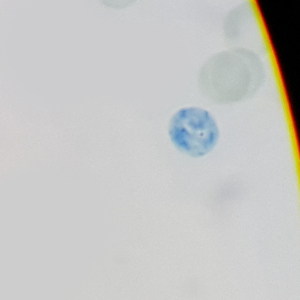aggregate reticulocyte: (167, 105, 221, 160)
erythrocyte: (211, 46, 266, 106), (197, 51, 251, 106)
